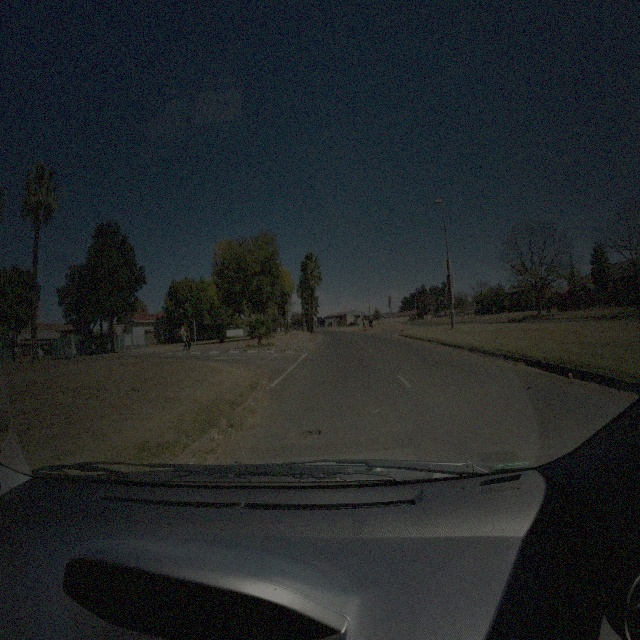pothole: (298, 426, 321, 441)
